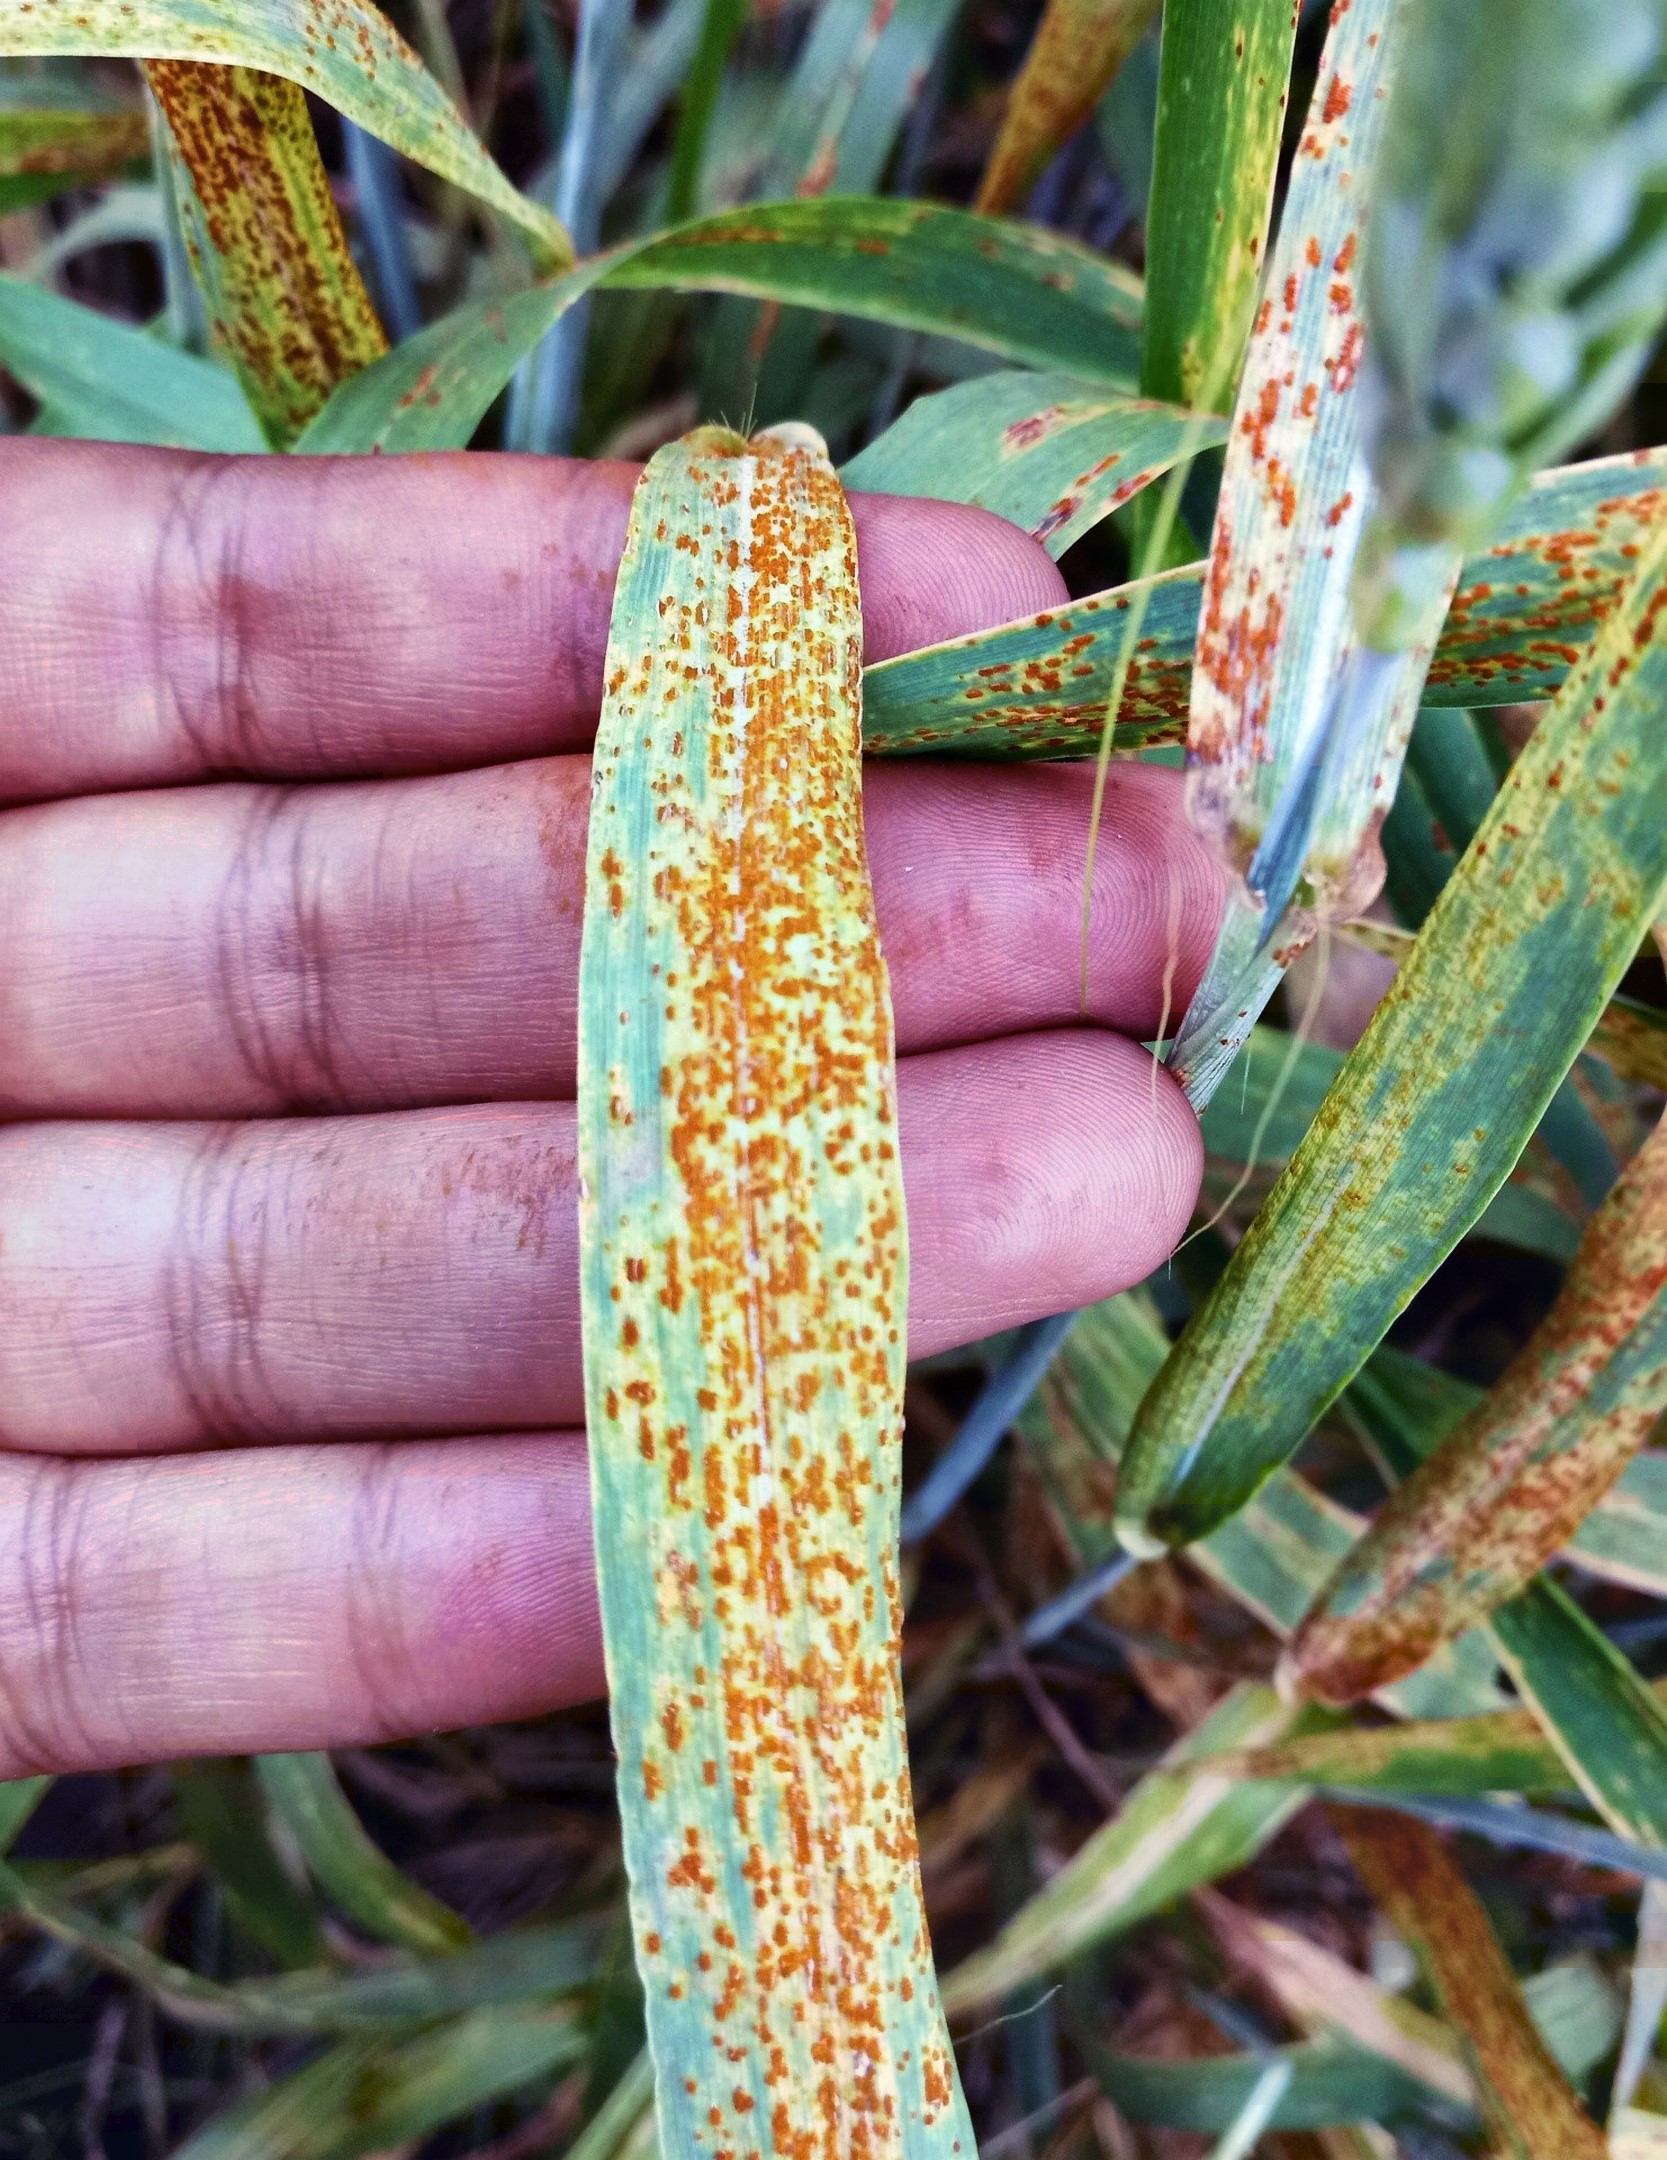Leaf Rust: (536, 506, 979, 1988)
